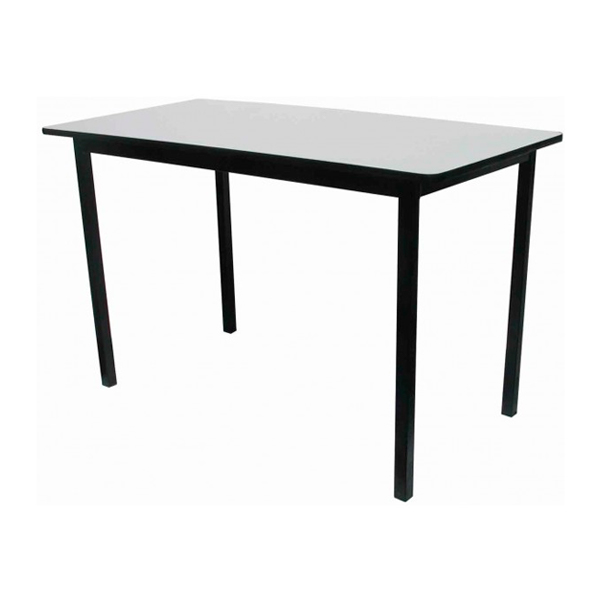m01: (41, 97, 564, 503)
